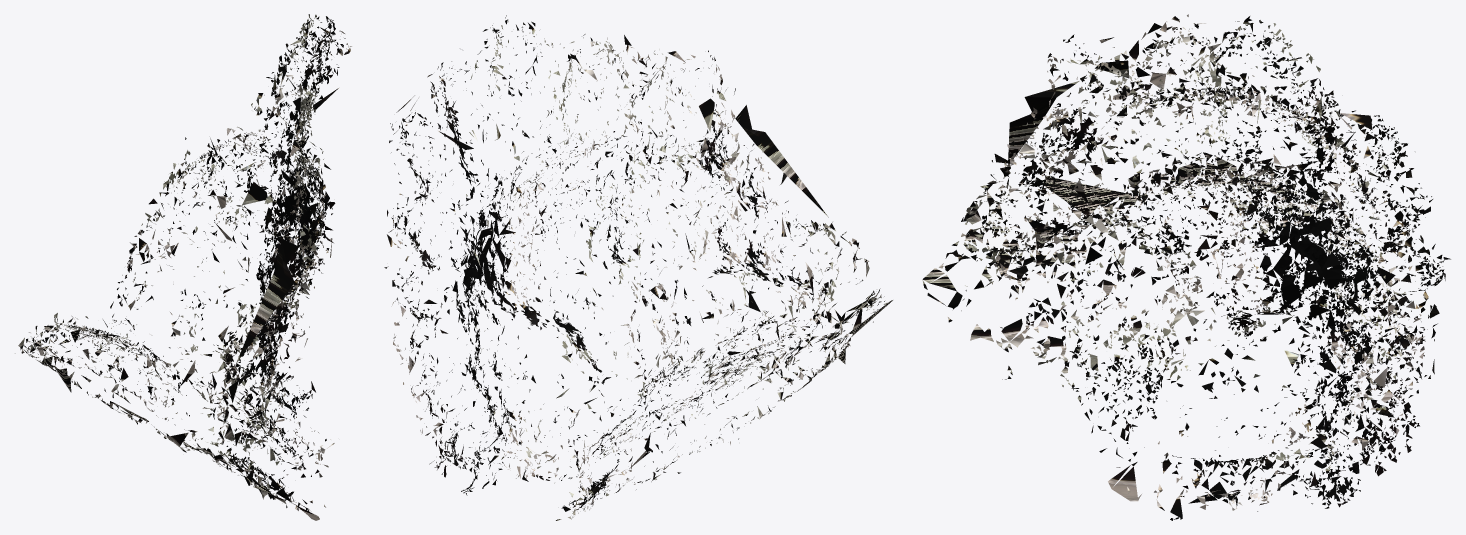
3 views of the same model, side by side, from view 1: azimuth 30°, elevation 25°; view 2: azimuth 150°, elevation 25°; view 3: azimuth 270°, elevation 25° (orthographic). The views are drawn at different scales.
Parts seen in each view (by area): view 1: test13; view 2: test13; view 3: test13.
Boxes of the visible parts, x1,y1,x2,y2 form: test13: (15,14,351,520); test13: (384,15,892,520); test13: (922,14,1450,520).
Size of the model in its own units: 1.17 by 1.48 by 1.35.
1 material, 1 textured.
